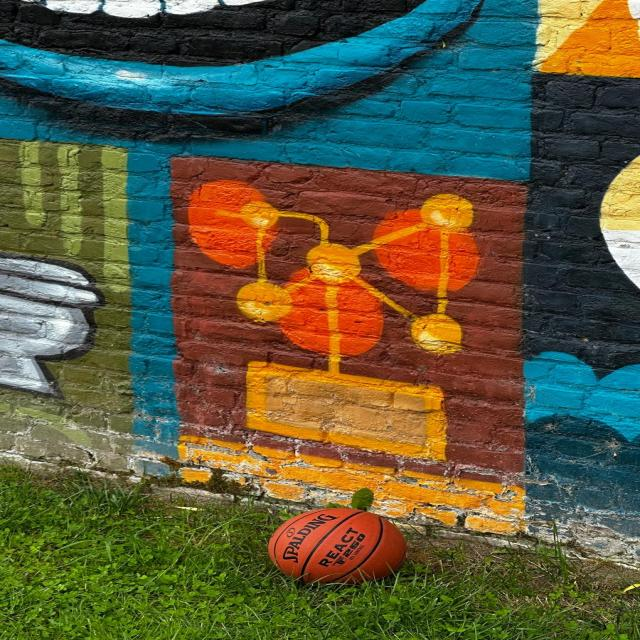Basketball: (272, 511, 410, 584)
